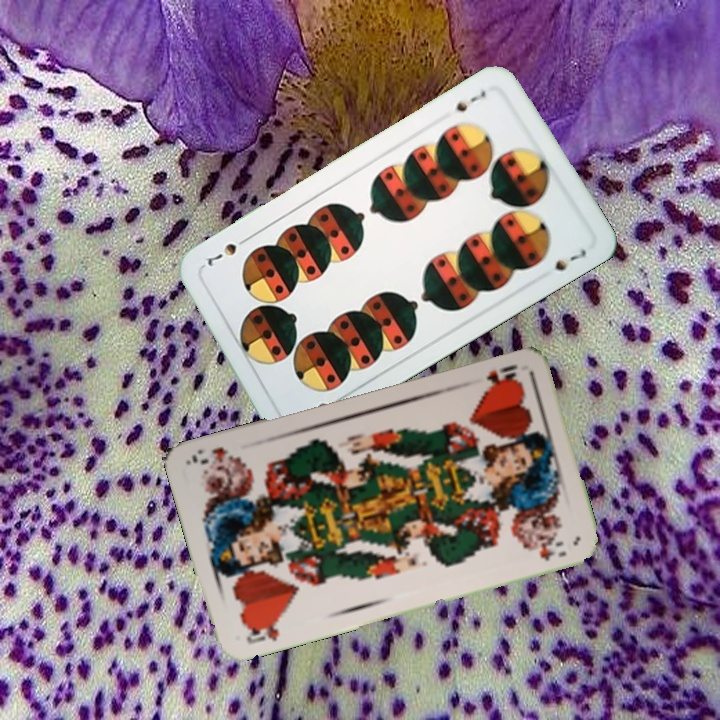HO: (242, 615, 282, 647), (482, 360, 520, 391)
S7: (448, 86, 489, 115)
